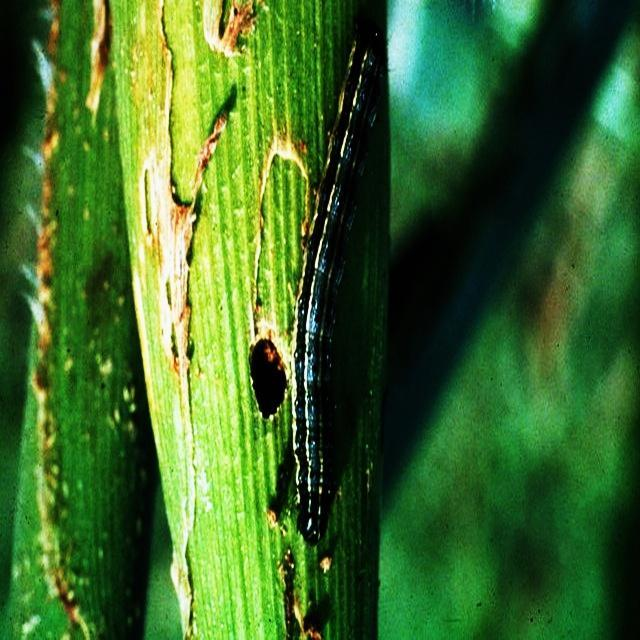Plaga: (284, 31, 385, 549)
